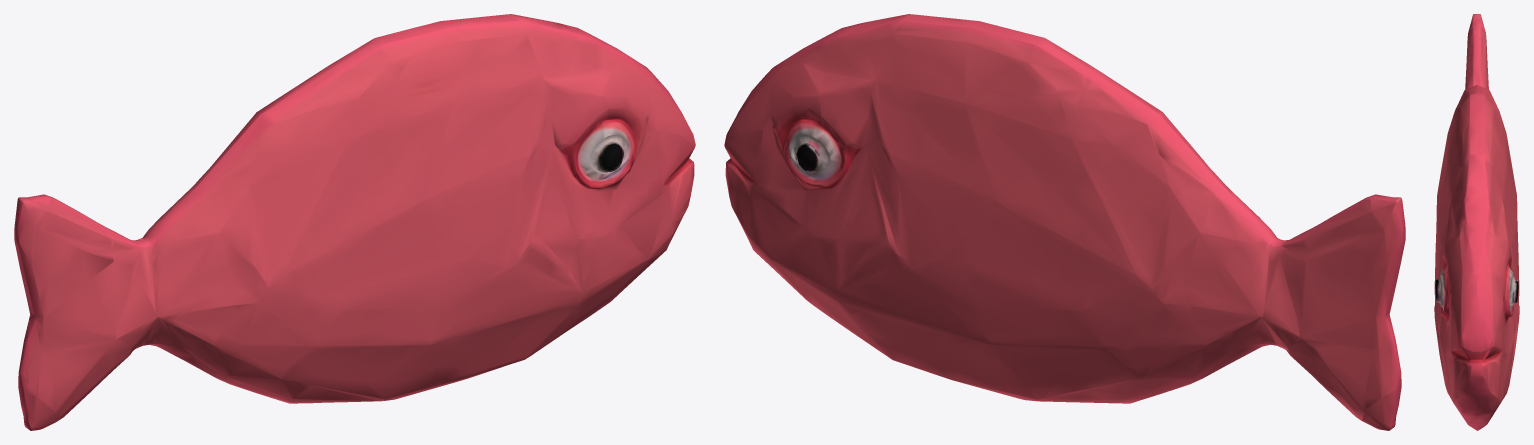
File: seabream.glb
3 views of the same model, side by side, from view 1: azimuth 30°, elevation 25°; view 2: azimuth 150°, elevation 25°; view 3: azimuth 270°, elevation 25° (orthographic). The views are drawn at different scales.
Visible parts, largest first — view 1: material; view 2: material; view 3: material.
Part boxes in pixels (x1,y1,x2,y2): material: [14, 14, 695, 430]; material: [724, 14, 1405, 430]; material: [1434, 14, 1519, 430].
Size of the model in its own units: 1.16 by 0.5919 by 0.1625.
Materials: 1 (1 with a texture image).
